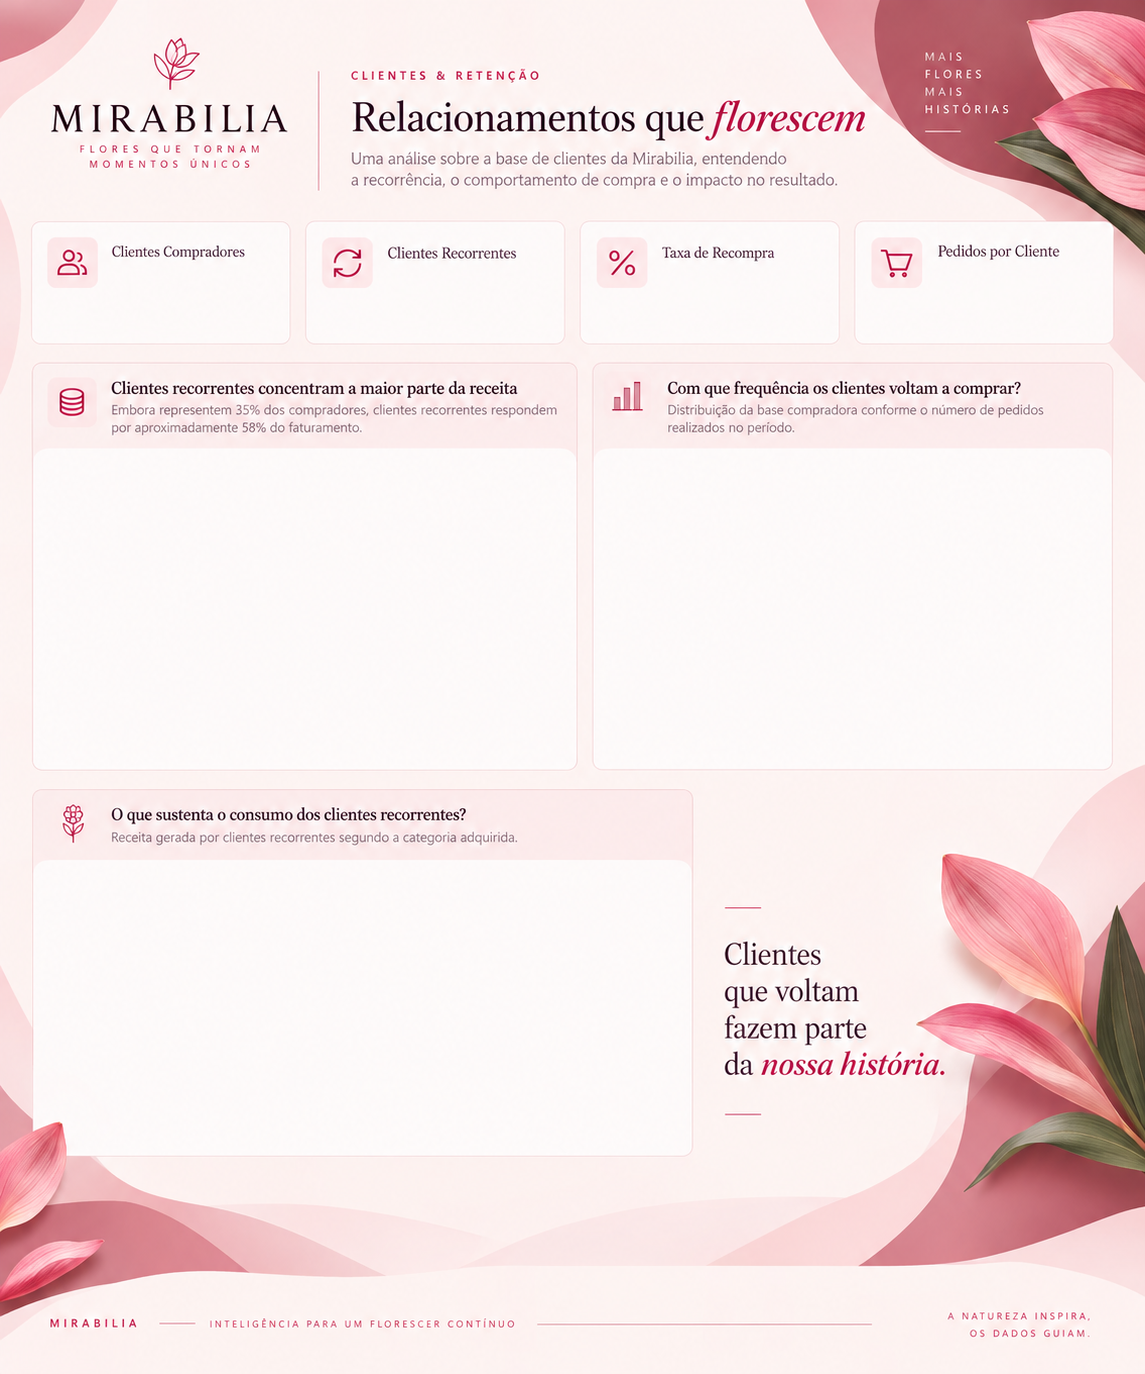

This screenshot's page, from the dashboard's own definition file:
{"tool":"powerbi","page":{"name":"🌷 Clientes & Retenção","canvas":[1440,1800],"ordinal":2},"visuals":[{"type":"cardVisual","fields":{"Data":["Medidas.Clientes Compradores"]},"box":[45,350,320,105],"z":0},{"type":"cardVisual","fields":{"Data":["Medidas.Clientes Recorrentes"]},"box":[382.5,382.5,315,72.5],"z":1000},{"type":"cardVisual","fields":{"Data":["Medidas.Taxa de Recompra"]},"box":[745,382.5,305,72.5],"z":2000},{"type":"cardVisual","fields":{"Data":["Medidas.Pedidos por Cliente"]},"box":[1087.5,382.5,307.5,72.5],"z":3000},{"type":"donutChart","title":"Clientes recorrentes concentram a maior parte da receita","fields":{"Y":["Medidas.Receita Clientes Não Recorrentes","Medidas.Receita Clientes Recorrentes"]},"box":[45,597.5,675,407.5],"z":4000},{"type":"columnChart","title":"Com que frequência os clientes voltam a comprar?","fields":{"Category":["DimCliente.Faixa de Frequência"],"Y":["Medidas.Clientes por Frequência"]},"box":[745,597.5,650,407.5],"z":5000},{"type":"barChart","title":"O que sustenta o consumo dos clientes recorrentes?","fields":{"Category":["DimProduto.Categoria"],"Y":["Medidas.Receita Recorrentes por Categoria"]},"box":[45,1110,815,362.5],"z":6000}]}

Visuals, with their boxes on the page's 1440x1800 design canvas (x1, y1, x2, y2). These are canvas units, not pixel positions in the 1145x1374 screenshot, which may show the page scaled, cropped or inside an application window:
cardVisual - Medidas.Clientes Compradores: select_region(45, 350, 365, 455)
cardVisual - Medidas.Clientes Recorrentes: select_region(382, 382, 698, 455)
cardVisual - Medidas.Taxa de Recompra: select_region(745, 382, 1050, 455)
cardVisual - Medidas.Pedidos por Cliente: select_region(1088, 382, 1395, 455)
"Clientes recorrentes concentram a maior parte da receita" donutChart: select_region(45, 598, 720, 1005)
"Com que frequência os clientes voltam a comprar?" columnChart: select_region(745, 598, 1395, 1005)
"O que sustenta o consumo dos clientes recorrentes?" barChart: select_region(45, 1110, 860, 1472)
